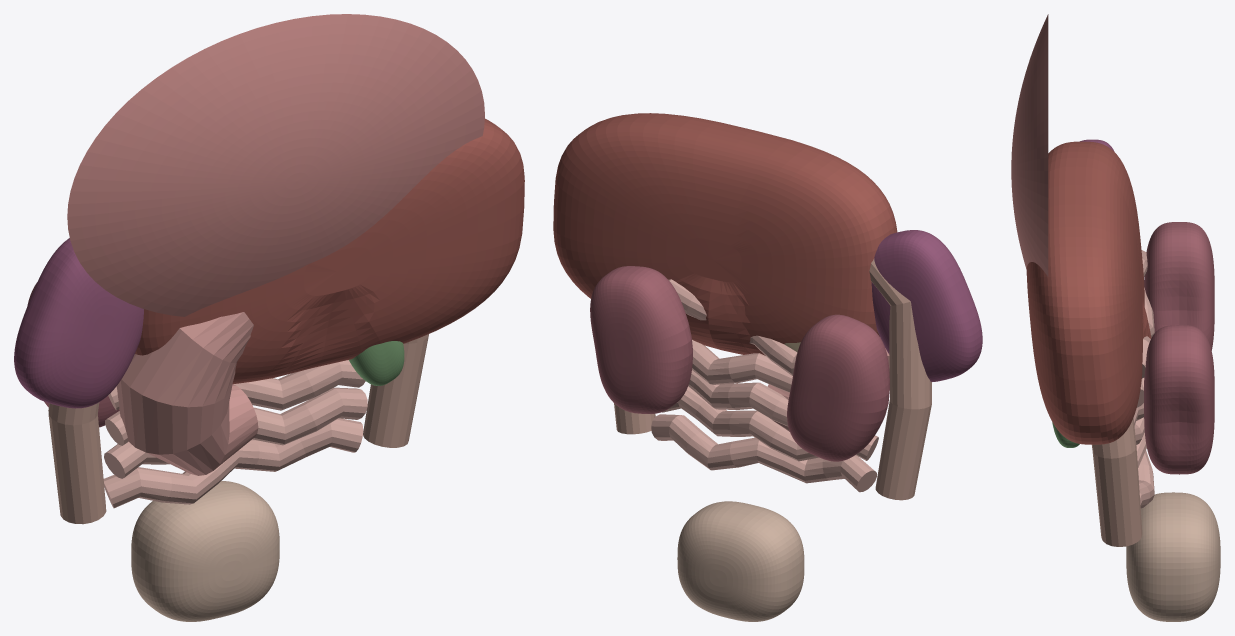
Rendered from dranmar_patient_organs_debug.glb.
3 views of the same model, side by side, from view 1: azimuth 30°, elevation 25°; view 2: azimuth 150°, elevation 25°; view 3: azimuth 270°, elevation 25° (orthographic). The views are drawn at different scales.
Parts seen in each view (by area): view 1: diaphragm, liver, bladder, stomach, small_bowel, spleen, colon, gallbladder; view 2: liver, small_bowel, bladder, right_kidney, left_kidney, spleen, colon; view 3: liver, bladder, right_kidney, diaphragm, left_kidney, colon, small_bowel.
Boxes of the visible parts, x1=… form: diaphragm: x1=67, y1=14, x2=484, y2=316; liver: x1=135, y1=118, x2=524, y2=384; bladder: x1=131, y1=481, x2=279, y2=621; stomach: x1=116, y1=312, x2=258, y2=475; small_bowel: x1=103, y1=360, x2=367, y2=508; spleen: x1=14, y1=238, x2=143, y2=408; colon: x1=48, y1=334, x2=428, y2=524; gallbladder: x1=349, y1=341, x2=404, y2=385; liver: x1=553, y1=113, x2=897, y2=355; small_bowel: x1=651, y1=279, x2=878, y2=492; bladder: x1=677, y1=501, x2=804, y2=621; right_kidney: x1=590, y1=266, x2=692, y2=413; left_kidney: x1=787, y1=314, x2=889, y2=461; spleen: x1=871, y1=230, x2=982, y2=381; colon: x1=614, y1=258, x2=931, y2=500; liver: x1=1026, y1=141, x2=1151, y2=444; bladder: x1=1126, y1=492, x2=1220, y2=621; right_kidney: x1=1144, y1=325, x2=1214, y2=474; diaphragm: x1=1011, y1=14, x2=1048, y2=276; left_kidney: x1=1144, y1=222, x2=1214, y2=350; colon: x1=1092, y1=417, x2=1142, y2=546; small_bowel: x1=1133, y1=250, x2=1154, y2=508.
Size of the model in its own units: 0.3424 by 0.425 by 0.142.
